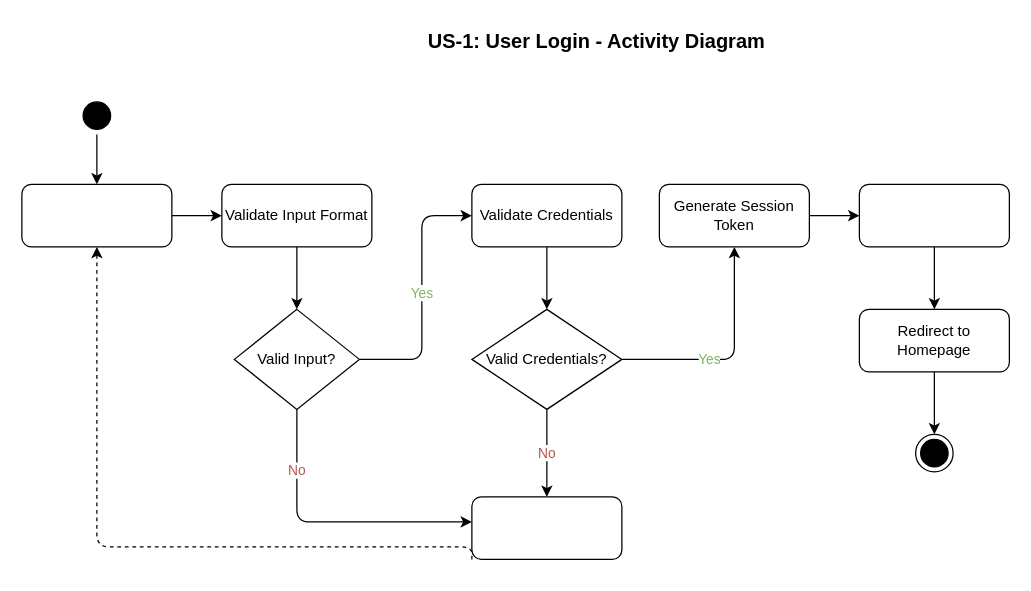
Some shapes in this 1031 by 591 pixel diagram are drawn without their labels. Here are the shapes that lost their labels. From the top down, the box of each, then its label:
(21, 183, 172, 247): Enter Credentials
(858, 183, 1009, 247): Store Token
(471, 496, 622, 559): Display Error Message
